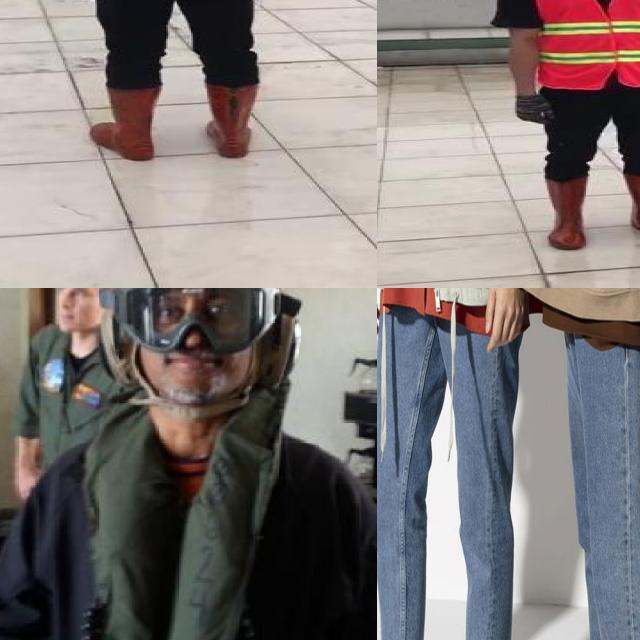boots: (90, 84, 160, 162), (202, 84, 260, 162), (540, 176, 593, 252), (623, 174, 640, 245)
face_nomask: (141, 288, 246, 382), (54, 288, 90, 329)
glasses: (113, 288, 279, 354)
hand_glove: (515, 97, 556, 126)
person: (0, 288, 377, 640), (51, 0, 309, 166), (490, 0, 640, 253)
vest: (527, 0, 640, 88)
